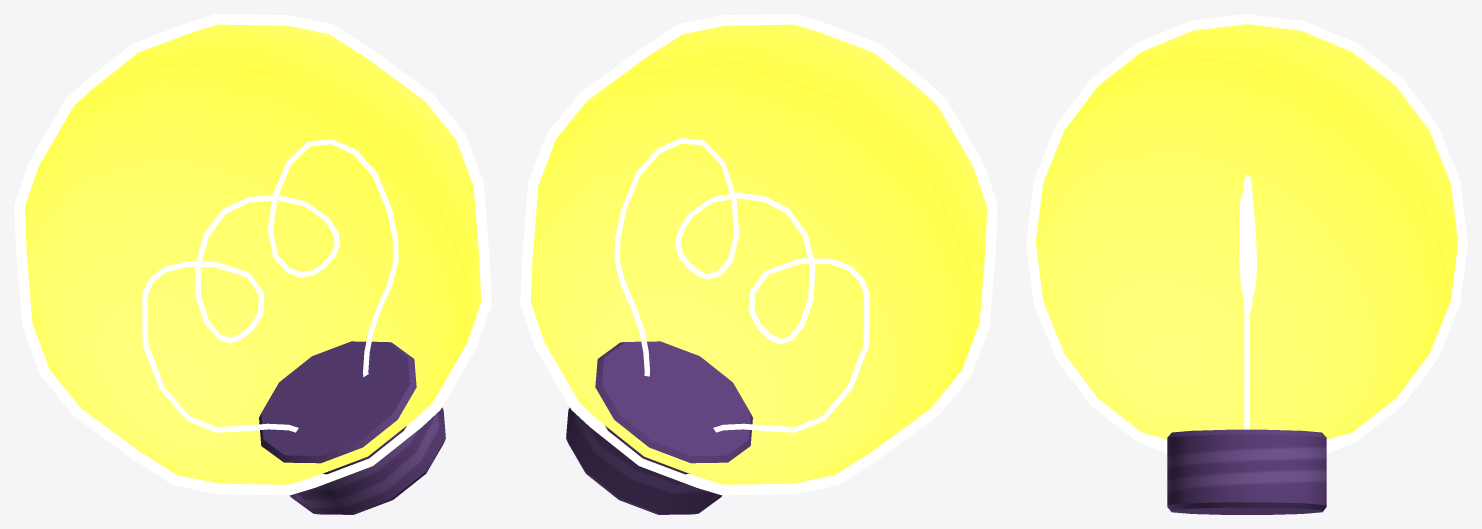
File: the_sun_from_oneshot.glb
The picture shows the model from 3 angles, left to right: view 1: azimuth 30°, elevation 25°; view 2: azimuth 150°, elevation 25°; view 3: azimuth 270°, elevation 25°; orthographic projection. The views are drawn at different scales.
Visible parts, largest first — view 1: Lightbulb; view 2: Lightbulb; view 3: Lightbulb.
Part boxes in pixels (x1=…): Lightbulb: x1=14, y1=14, x2=491, y2=514; Lightbulb: x1=520, y1=14, x2=997, y2=514; Lightbulb: x1=1026, y1=14, x2=1467, y2=514.
Bounding box in the file's own units: 0.385 × 0.433 × 0.3822.
1 material, 1 textured.
